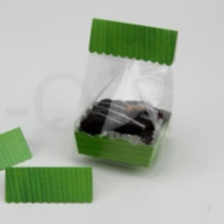snack: (65, 11, 184, 175)
